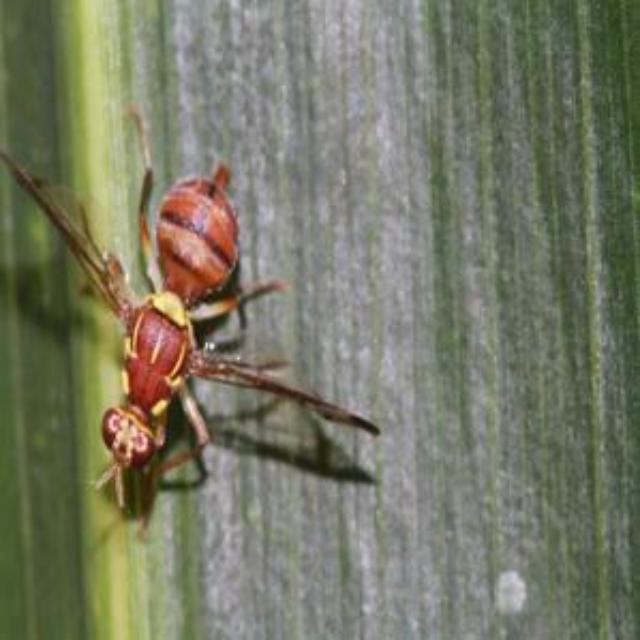melon fly: (0, 93, 394, 561)
